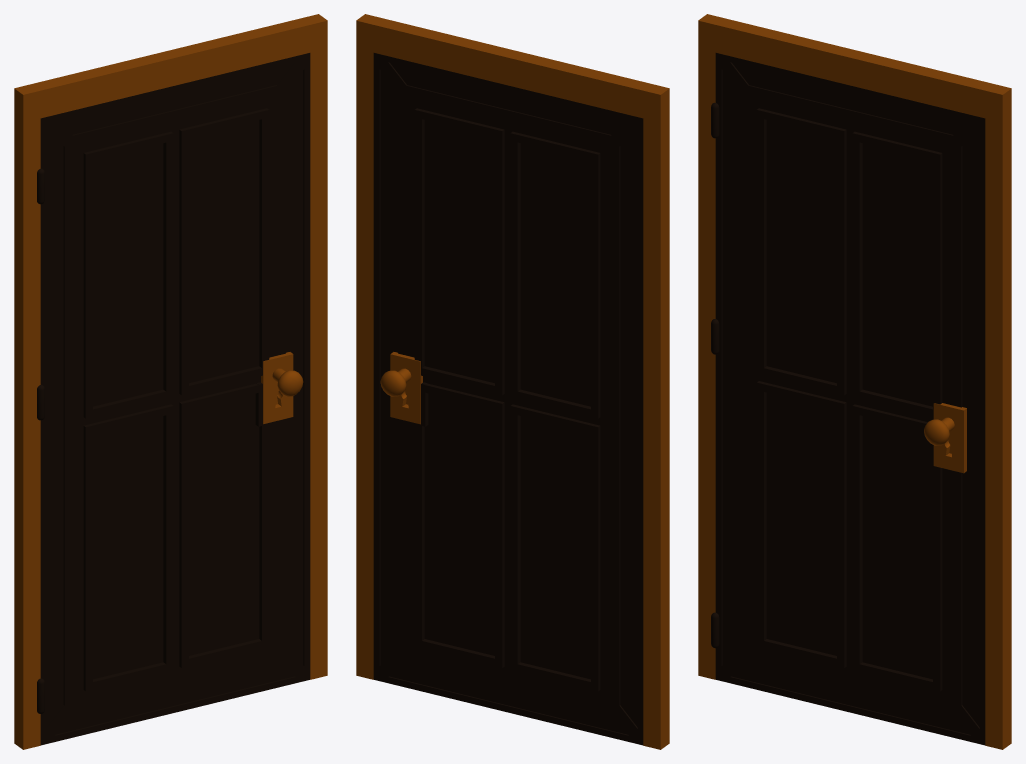
The model's file is porte.fbx.
3 renders of one model, left to right at view 1: azimuth 30°, elevation 25°; view 2: azimuth 150°, elevation 25°; view 3: azimuth 330°, elevation 25°, orthographic.
Visible parts, largest first — view 1: porte, cadre, poigné001, gond; view 2: porte, cadre, poigné; view 3: porte, cadre, poigné001, gond.
Boxes of the visible parts, bbox=[...] form: porte: bbox=[40, 53, 310, 745]; cadre: bbox=[14, 14, 327, 749]; poigné001: bbox=[261, 352, 303, 424]; gond: bbox=[37, 168, 44, 713]; porte: bbox=[373, 53, 643, 745]; cadre: bbox=[356, 14, 669, 749]; poigné: bbox=[380, 352, 422, 424]; porte: bbox=[715, 53, 985, 745]; cadre: bbox=[698, 14, 1011, 749]; poigné001: bbox=[924, 403, 966, 473]; gond: bbox=[711, 102, 719, 648].
Bounding box in the file's own units: 102 × 209 × 27.12.
